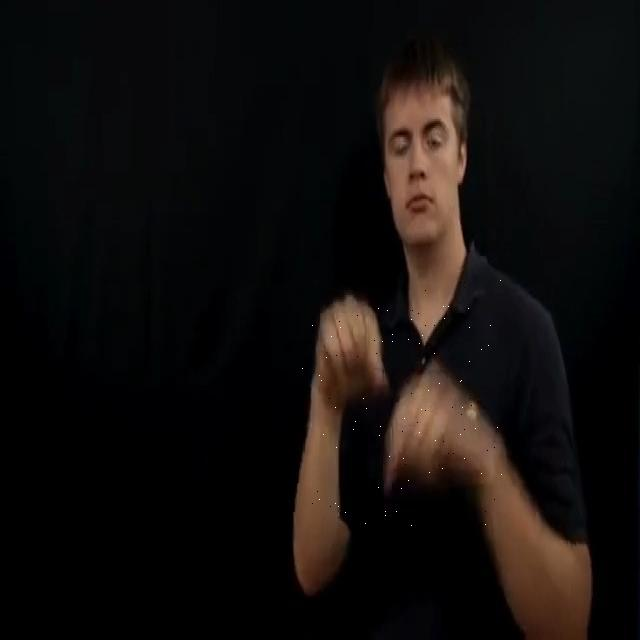bill: (302, 278, 504, 526)
